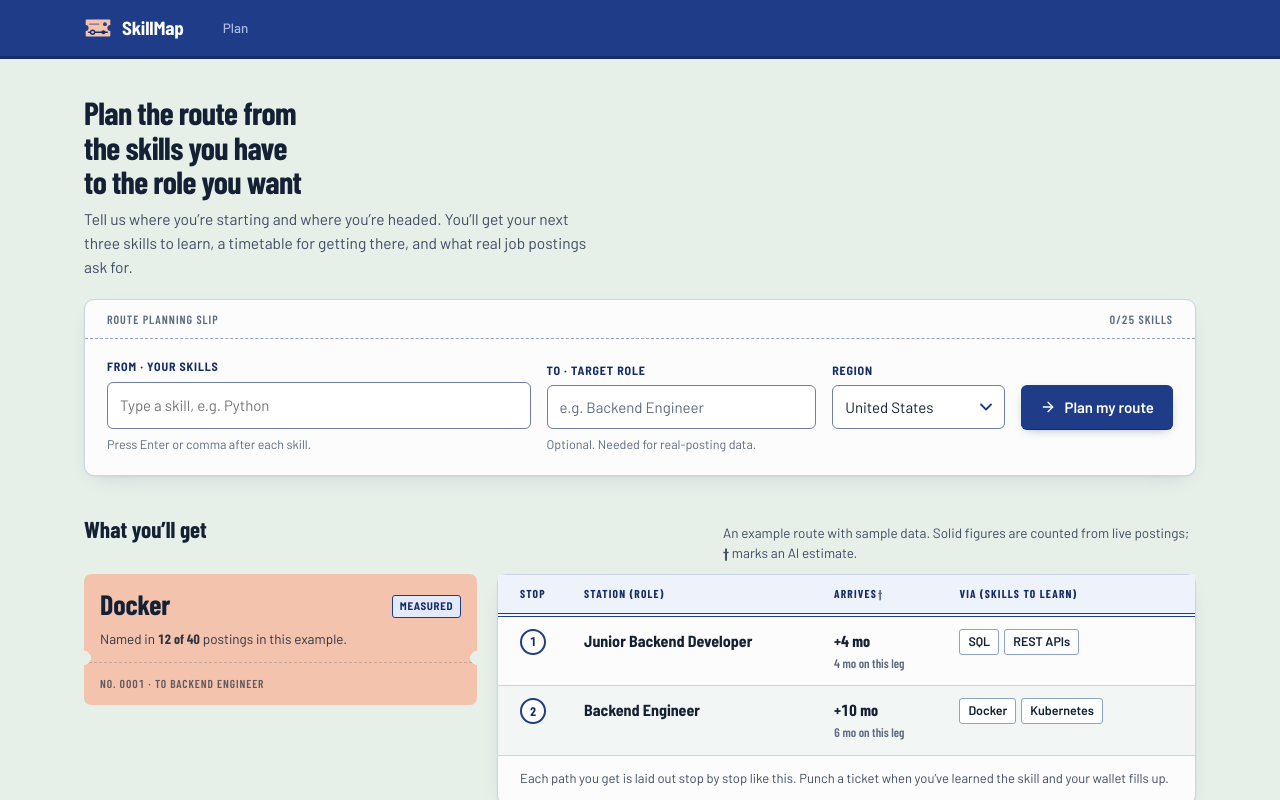
Test: App behaviour › labels a partial job-posting count
The width and height of the screenshot is (1280, 800).
Type "React" into the dropdown labelled "From · your skills".
click(319, 406); type("React")  # box [116,389,522,422]
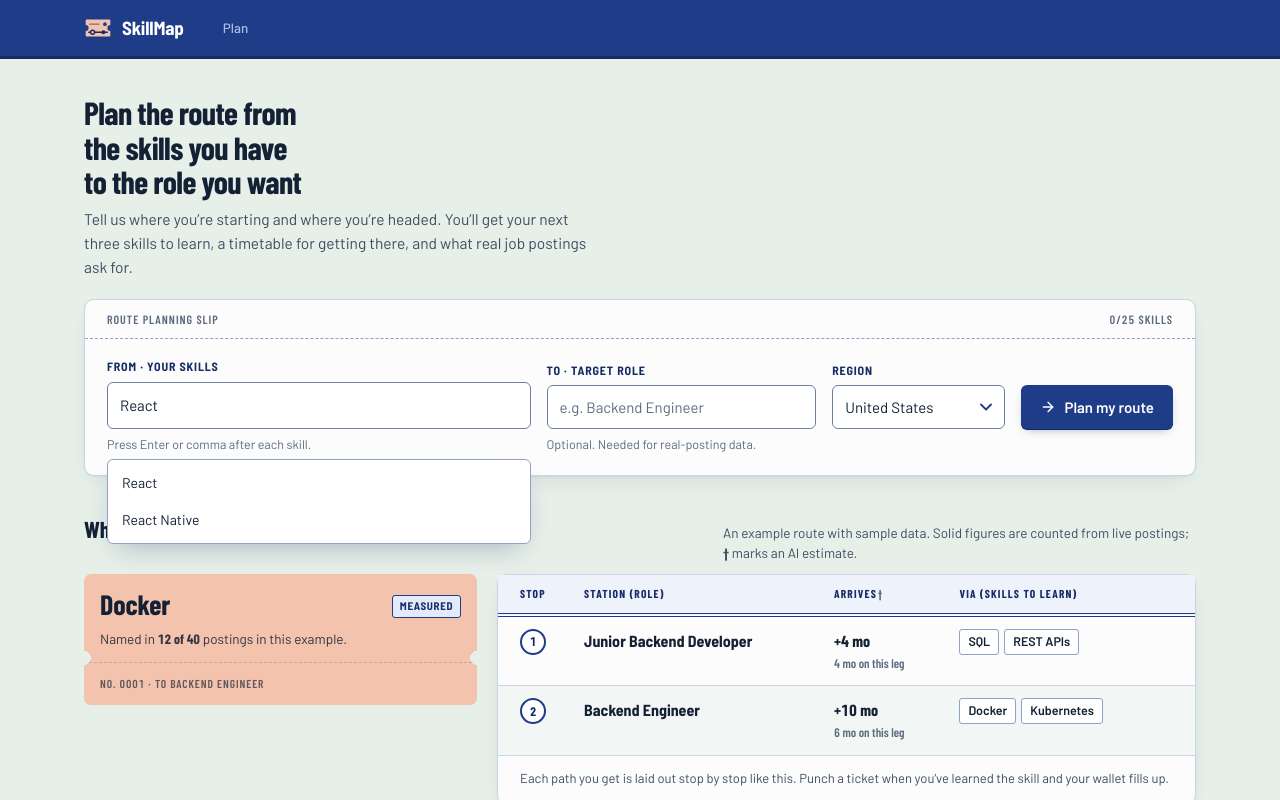
Press Enter in the dropdown labelled "From · your skills", box [116,389,522,422]
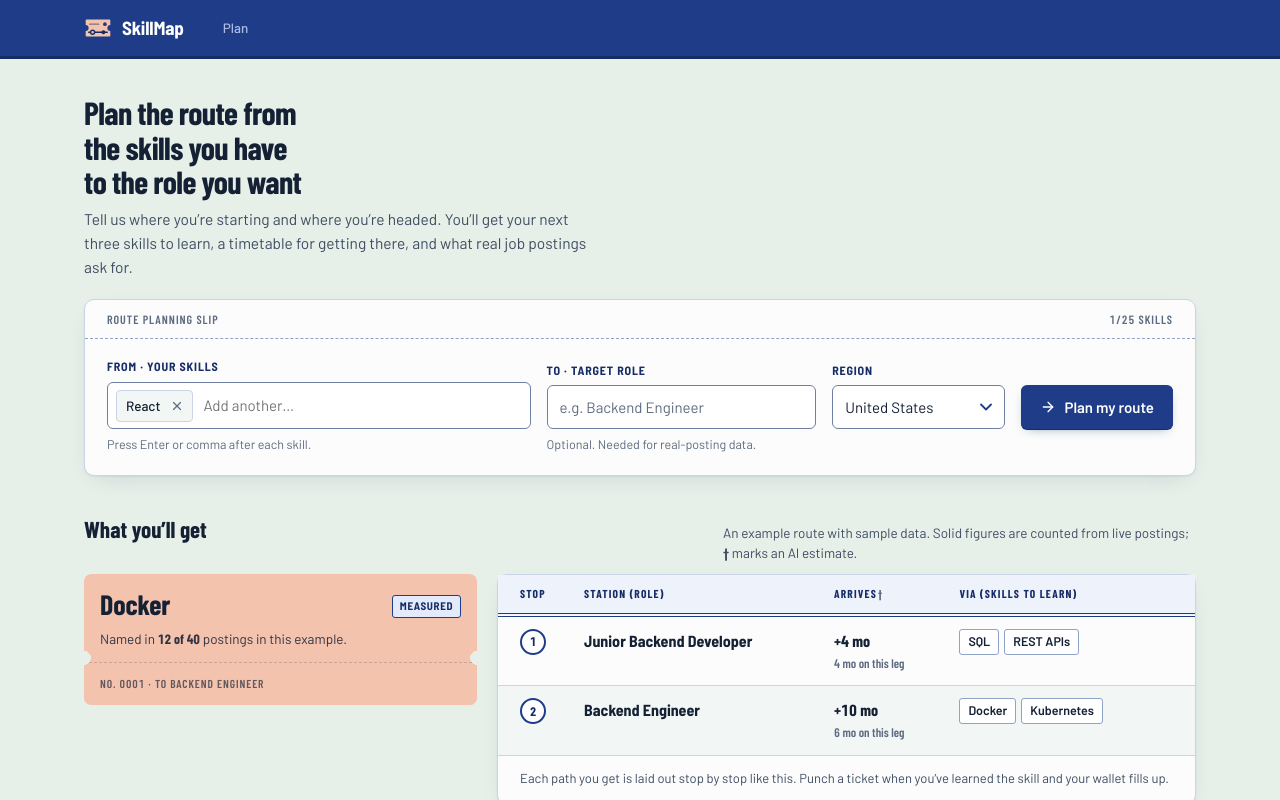
Type "Full Stack Developer" into the dropdown labelled "To · target role".
click(681, 407); type("Full Stack Developer")  # box [547,385,816,429]
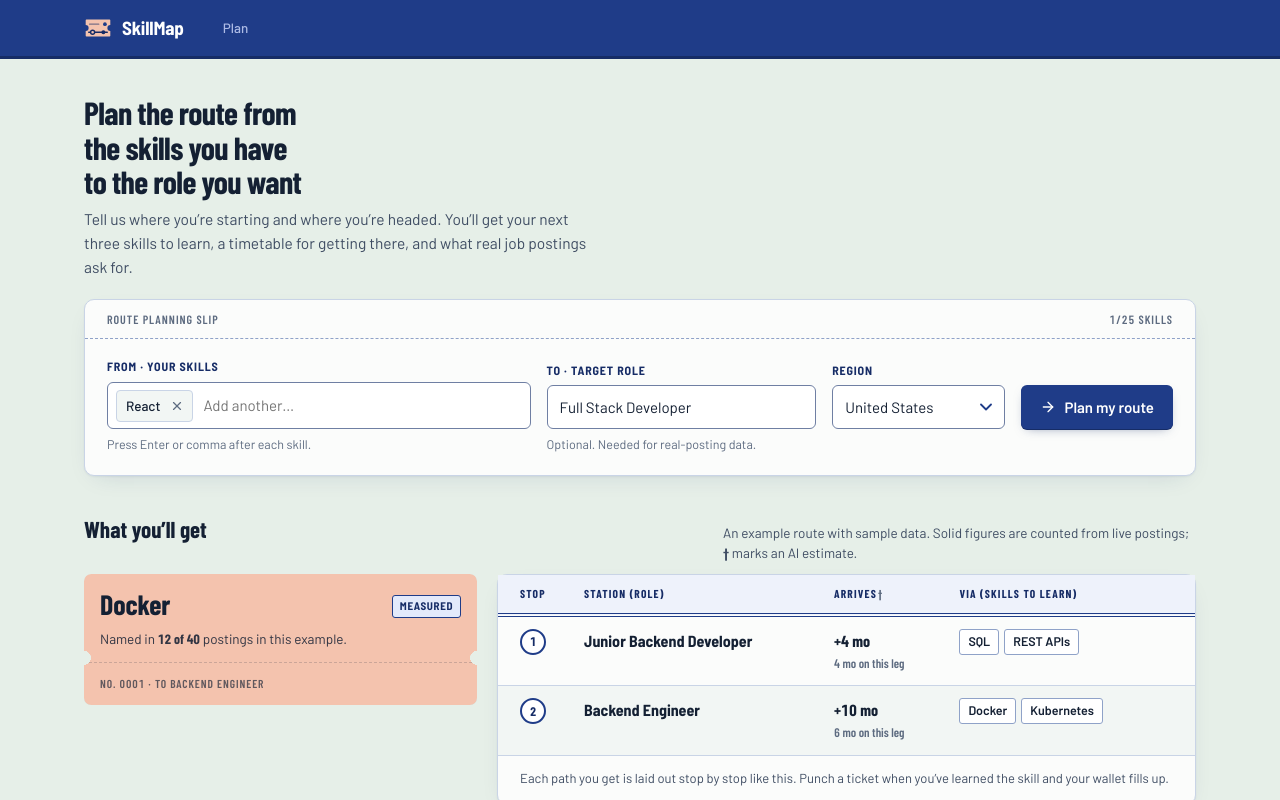
Click the button "Plan my route".
click(1097, 407)  # box [1022,385,1173,429]
(page scrolled)
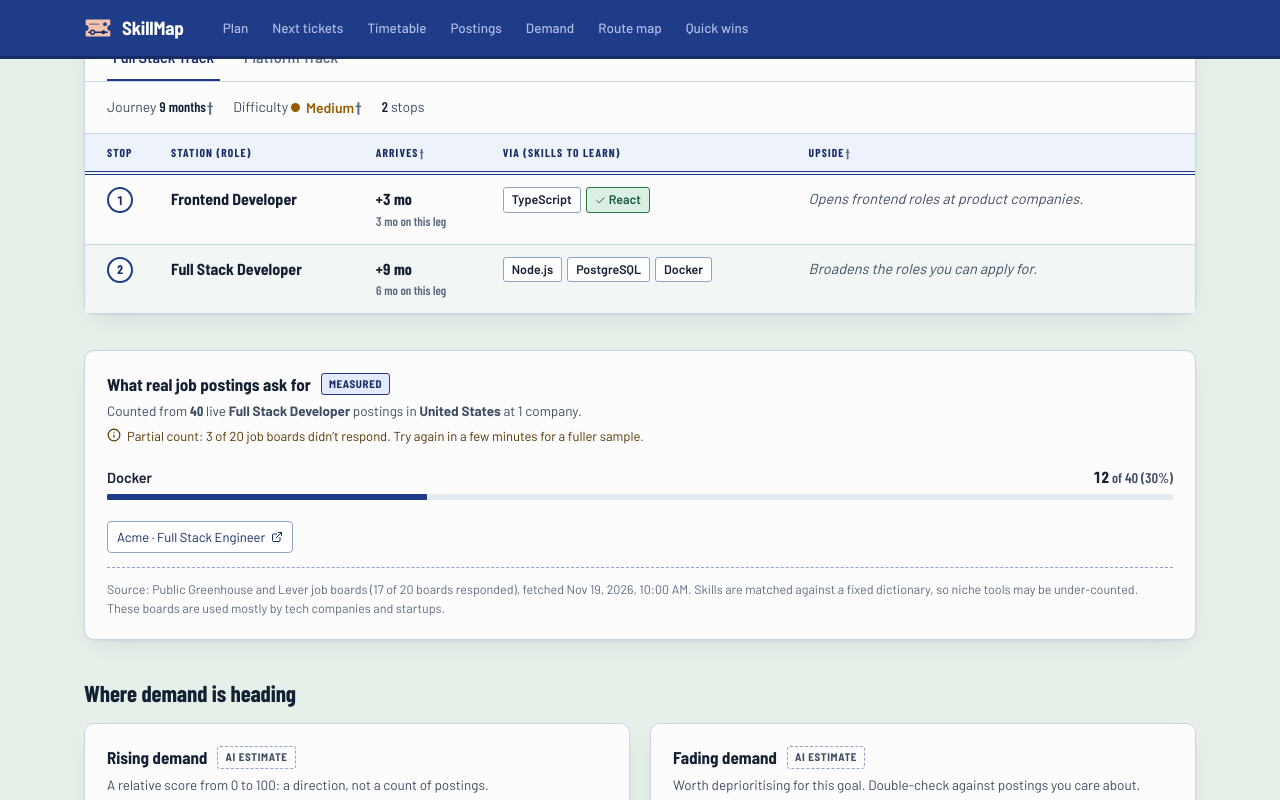
expect the text "Partial count: 3 of 20 job boards" is shown: met, box [127,428,644,444]
